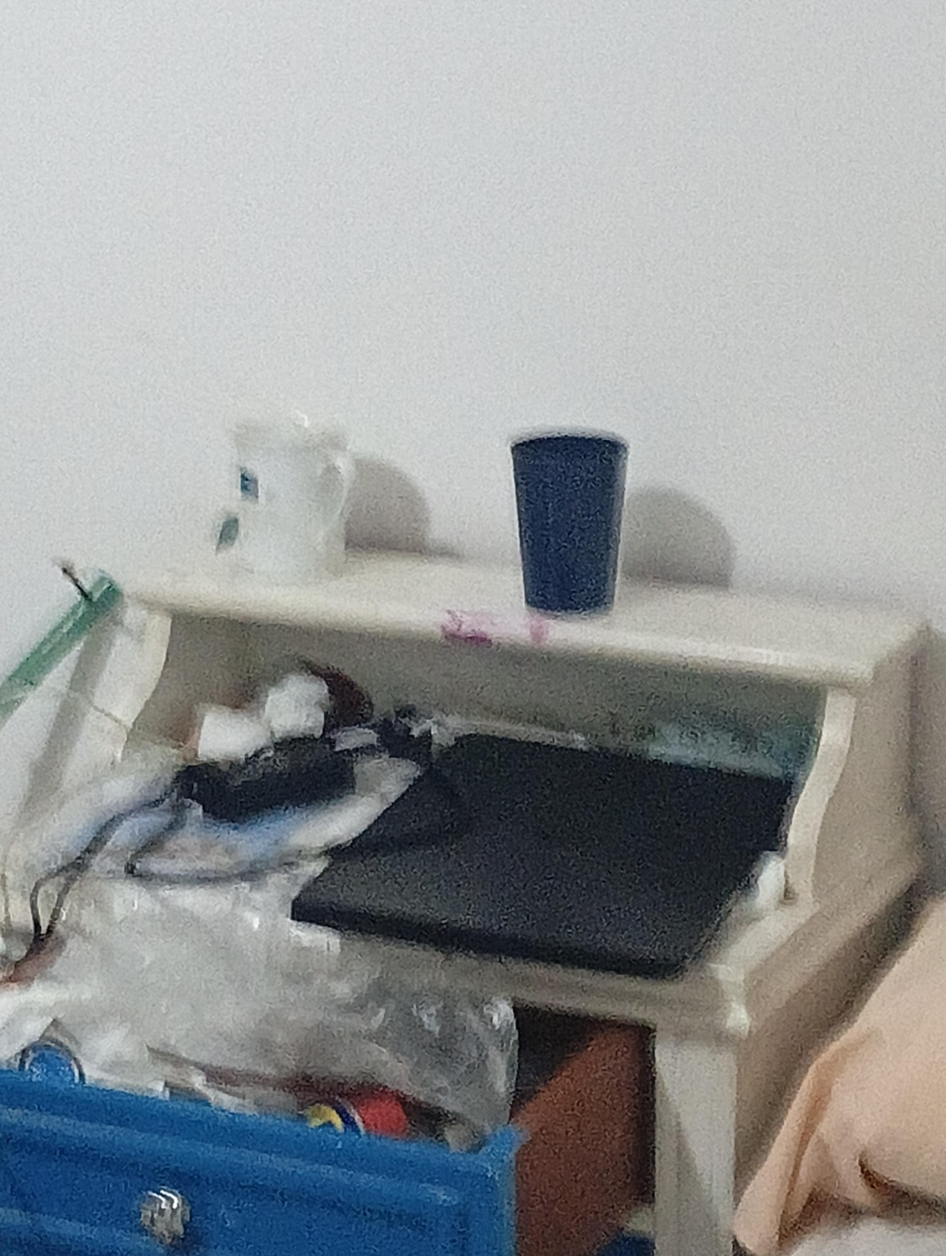cup: (511, 432, 627, 613), (231, 415, 354, 584)
